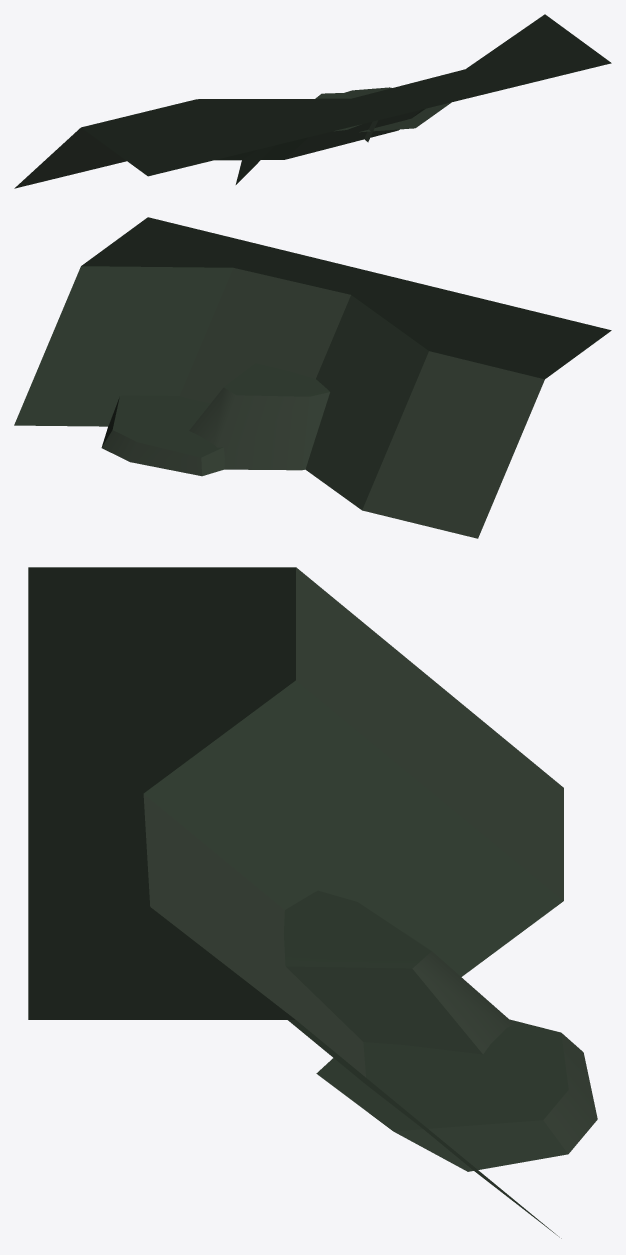
Rendered from SF_Env_River_Straight_03.glb.
3 renders of one model, top to bottom at view 1: azimuth 30°, elevation 25°; view 2: azimuth 150°, elevation 25°; view 3: azimuth 270°, elevation 25°, orthographic. The views are drawn at different scales.
Visible parts, largest first — view 1: SF_Env_River_Straight_03; view 2: SF_Env_River_Straight_03; view 3: SF_Env_River_Straight_03.
Boxes of the visible parts, box(x1,y1,x2,y2) form: SF_Env_River_Straight_03: box(14, 14, 611, 188); SF_Env_River_Straight_03: box(14, 217, 611, 538); SF_Env_River_Straight_03: box(28, 567, 597, 1238).
Size of the model in its own units: 0.1 by 0.0227 by 0.0532.
1 material, 1 textured.
